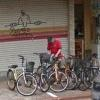bicycles: (37, 50, 69, 93), (8, 55, 37, 96)
